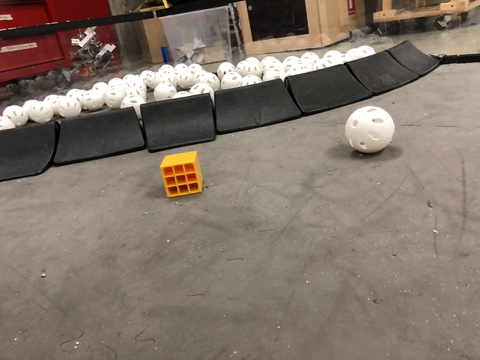ball: (332, 104, 406, 162)
block: (150, 153, 211, 203)
